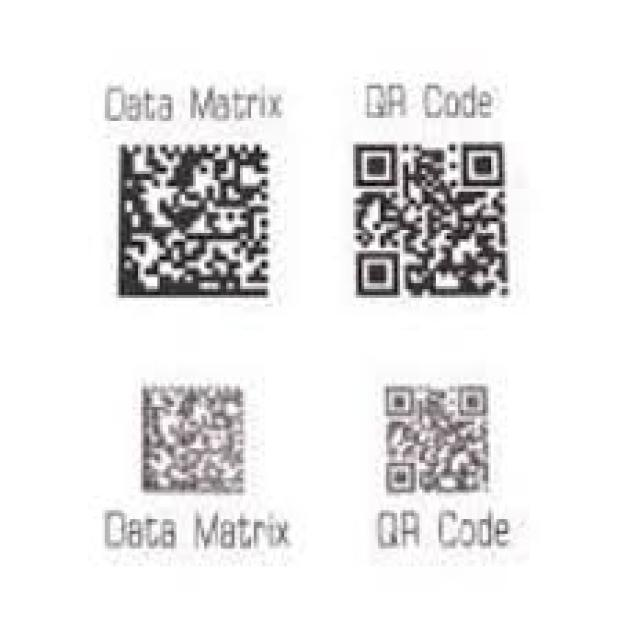datamatrix: (110, 138, 279, 306), (127, 374, 256, 498)
